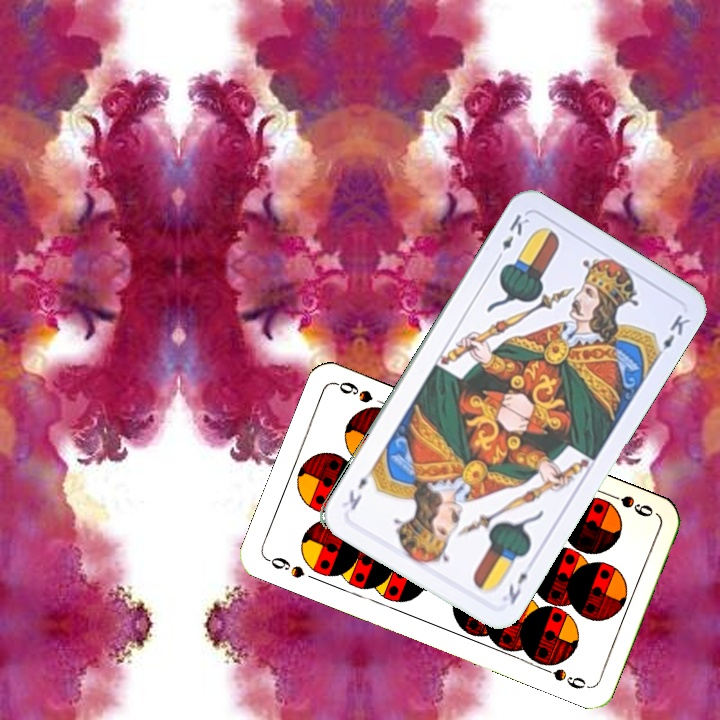EK: (492, 210, 532, 265), (504, 558, 537, 607)
S9: (601, 488, 656, 520), (262, 553, 307, 581)
